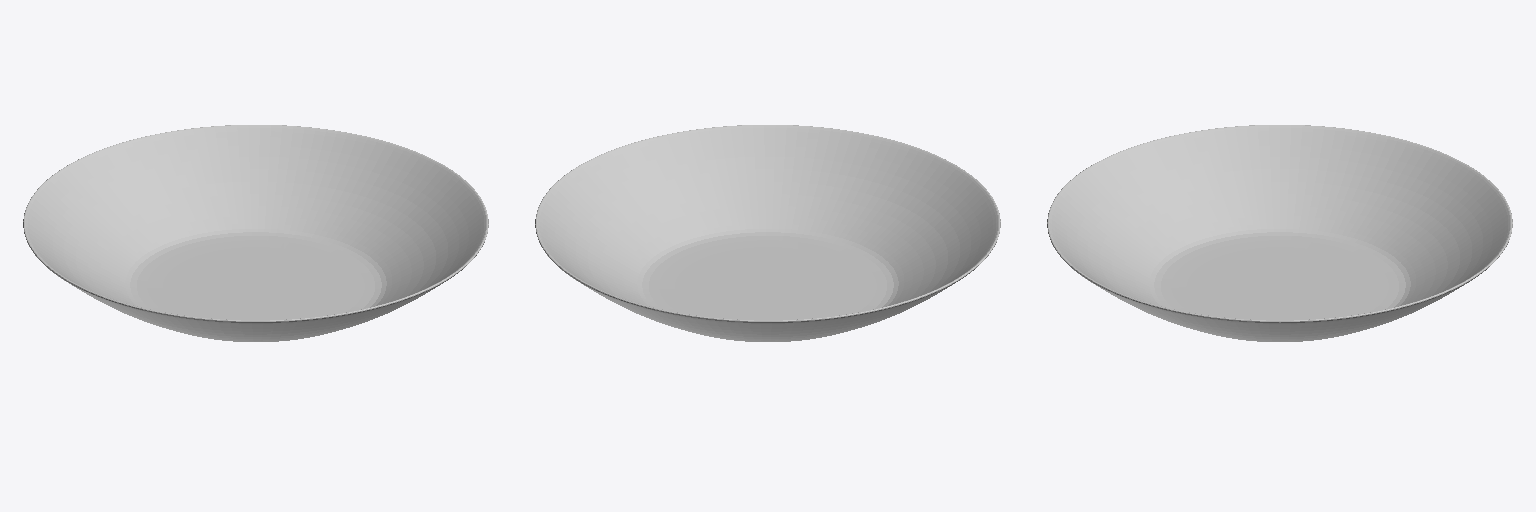
File: plate.obj
3 renders of one model, left to right at view 1: azimuth 30°, elevation 25°; view 2: azimuth 150°, elevation 25°; view 3: azimuth 270°, elevation 25°, orthographic.
Parts seen in each view (by area): view 1: Sphere; view 2: Sphere; view 3: Sphere.
Boxes of the visible parts, x1,y1,x2,y2 form: Sphere: [23, 125, 488, 341]; Sphere: [535, 125, 1000, 341]; Sphere: [1047, 125, 1512, 341].
Size of the model in its own units: 1.4 by 0.2213 by 1.4.